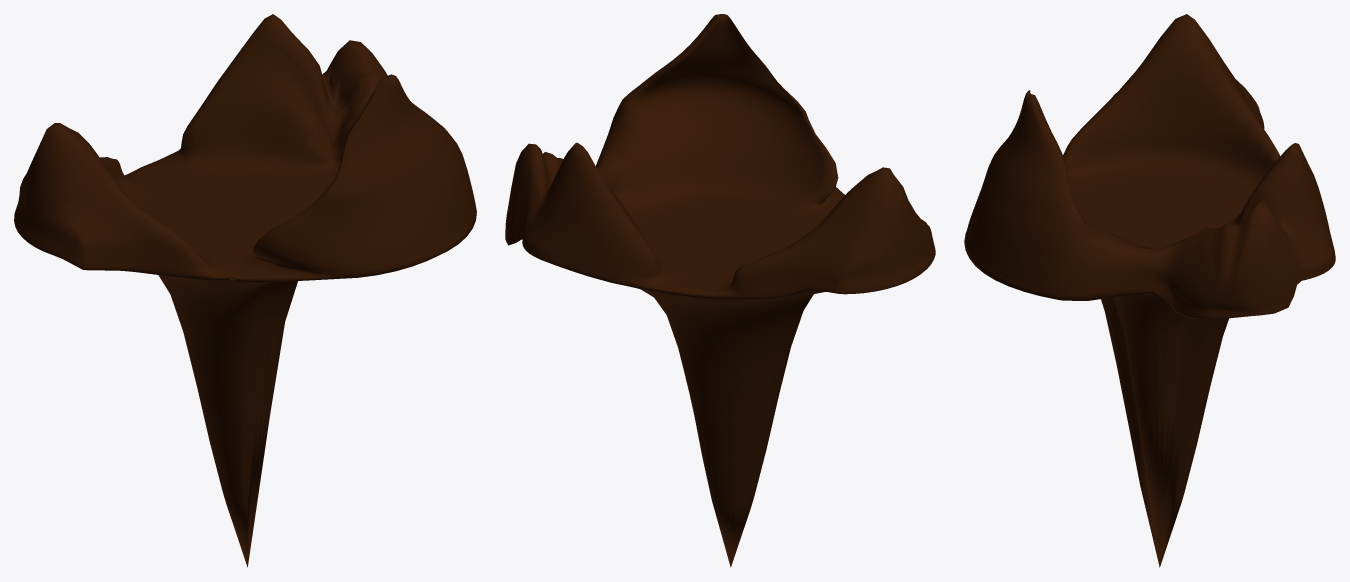
Rendered from illaPrat.fbx.
3 renders of one model, left to right at view 1: azimuth 30°, elevation 25°; view 2: azimuth 150°, elevation 25°; view 3: azimuth 270°, elevation 25°, orthographic. The views are drawn at different scales.
Parts seen in each view (by area): view 1: IslaPrado; view 2: IslaPrado; view 3: IslaPrado.
Boxes of the visible parts, left/top/right/bottom form: IslaPrado: left=14, top=14, right=476, bottom=567; IslaPrado: left=505, top=14, right=935, bottom=567; IslaPrado: left=964, top=14, right=1335, bottom=567.
Bounding box in the file's own units: 657 × 814 × 536.
